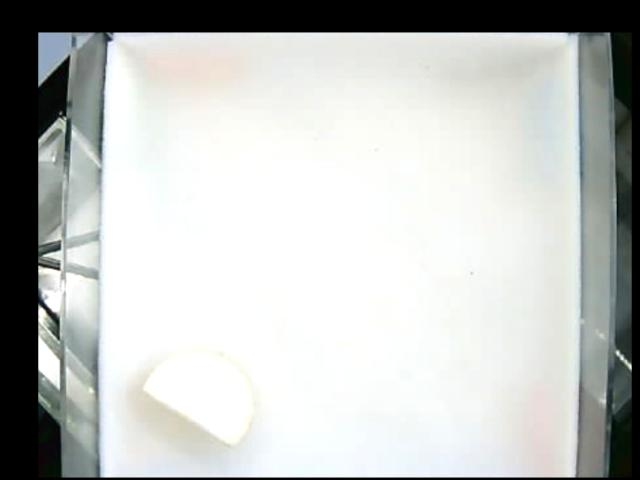Mooli: (140, 350, 253, 442)
